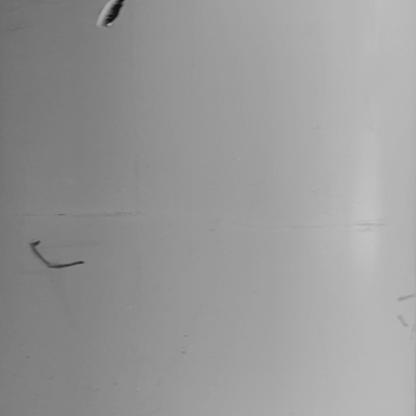fengxi: (22, 233, 93, 274)
kongdong: (83, 1, 133, 31)
